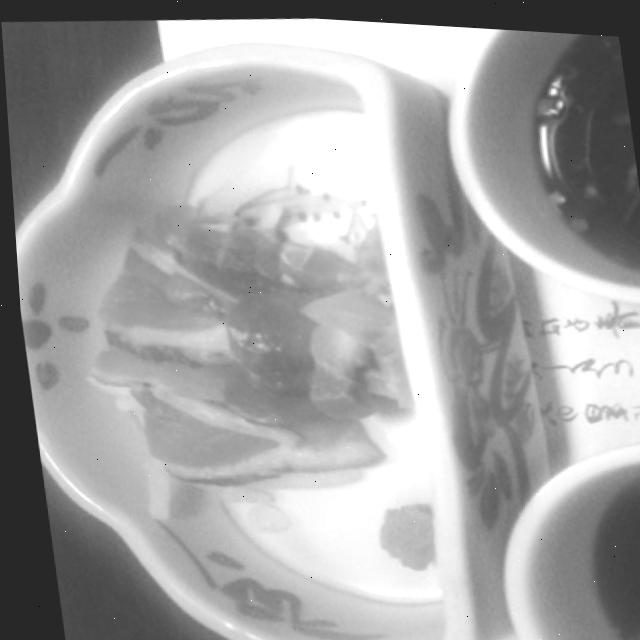熟制海鲜: (28, 136, 510, 545)
